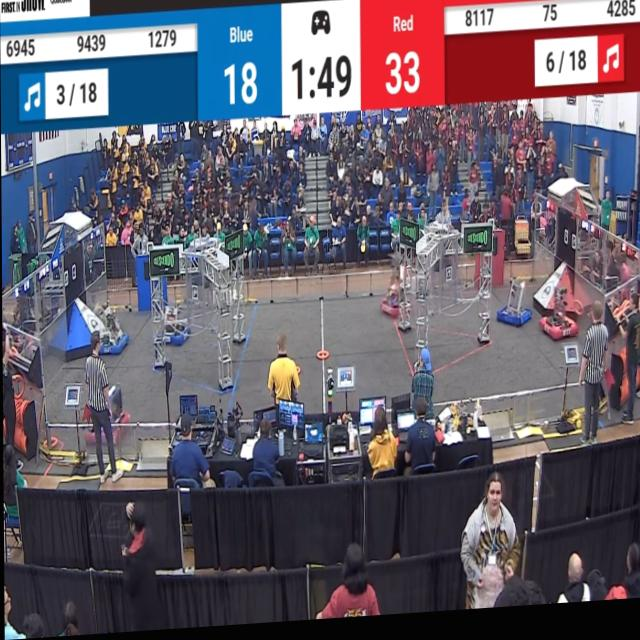Robot: (537, 280, 577, 353), (96, 298, 131, 364), (92, 378, 130, 438), (157, 296, 192, 354), (497, 281, 530, 341), (378, 271, 410, 328)
